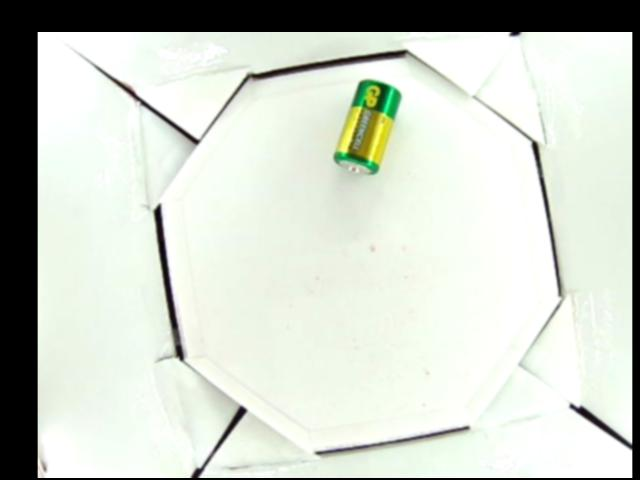Battery: (331, 79, 402, 176)
